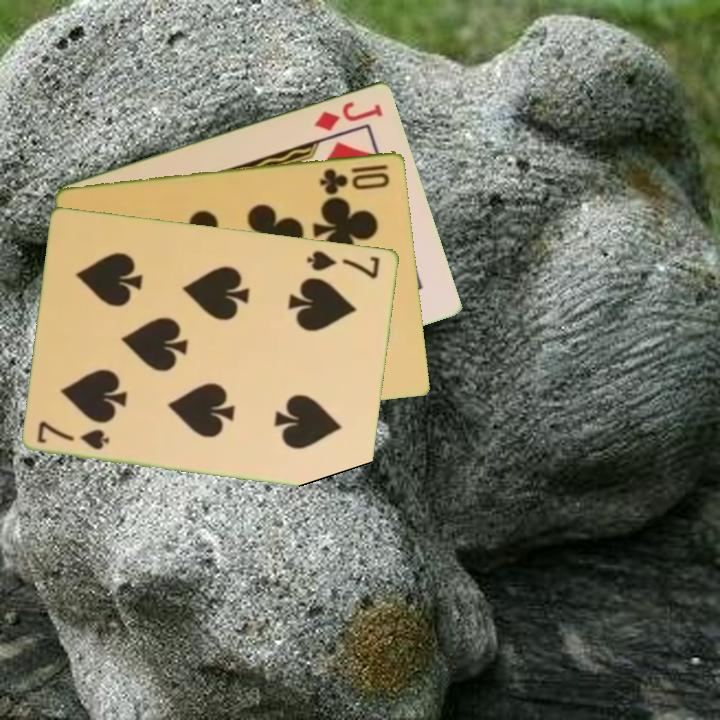10c: (316, 160, 393, 195)
7s: (304, 246, 383, 281), (34, 417, 113, 452)
Jd: (311, 97, 386, 134)
